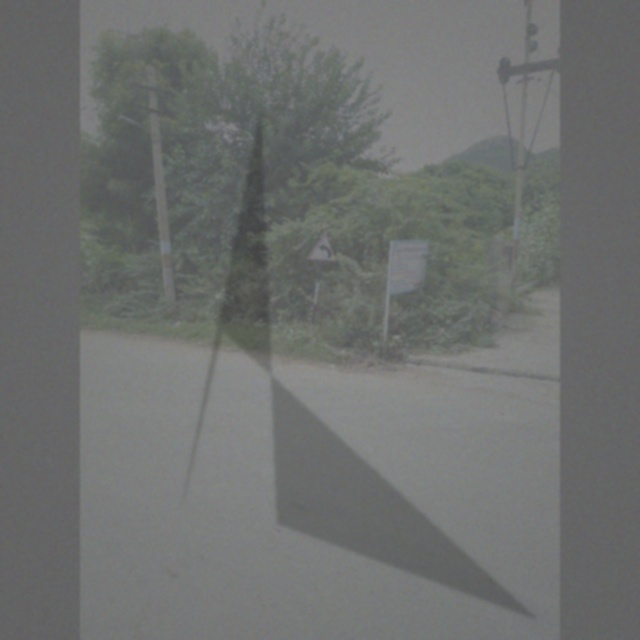Left_Hand_Curve: (308, 228, 341, 265)
